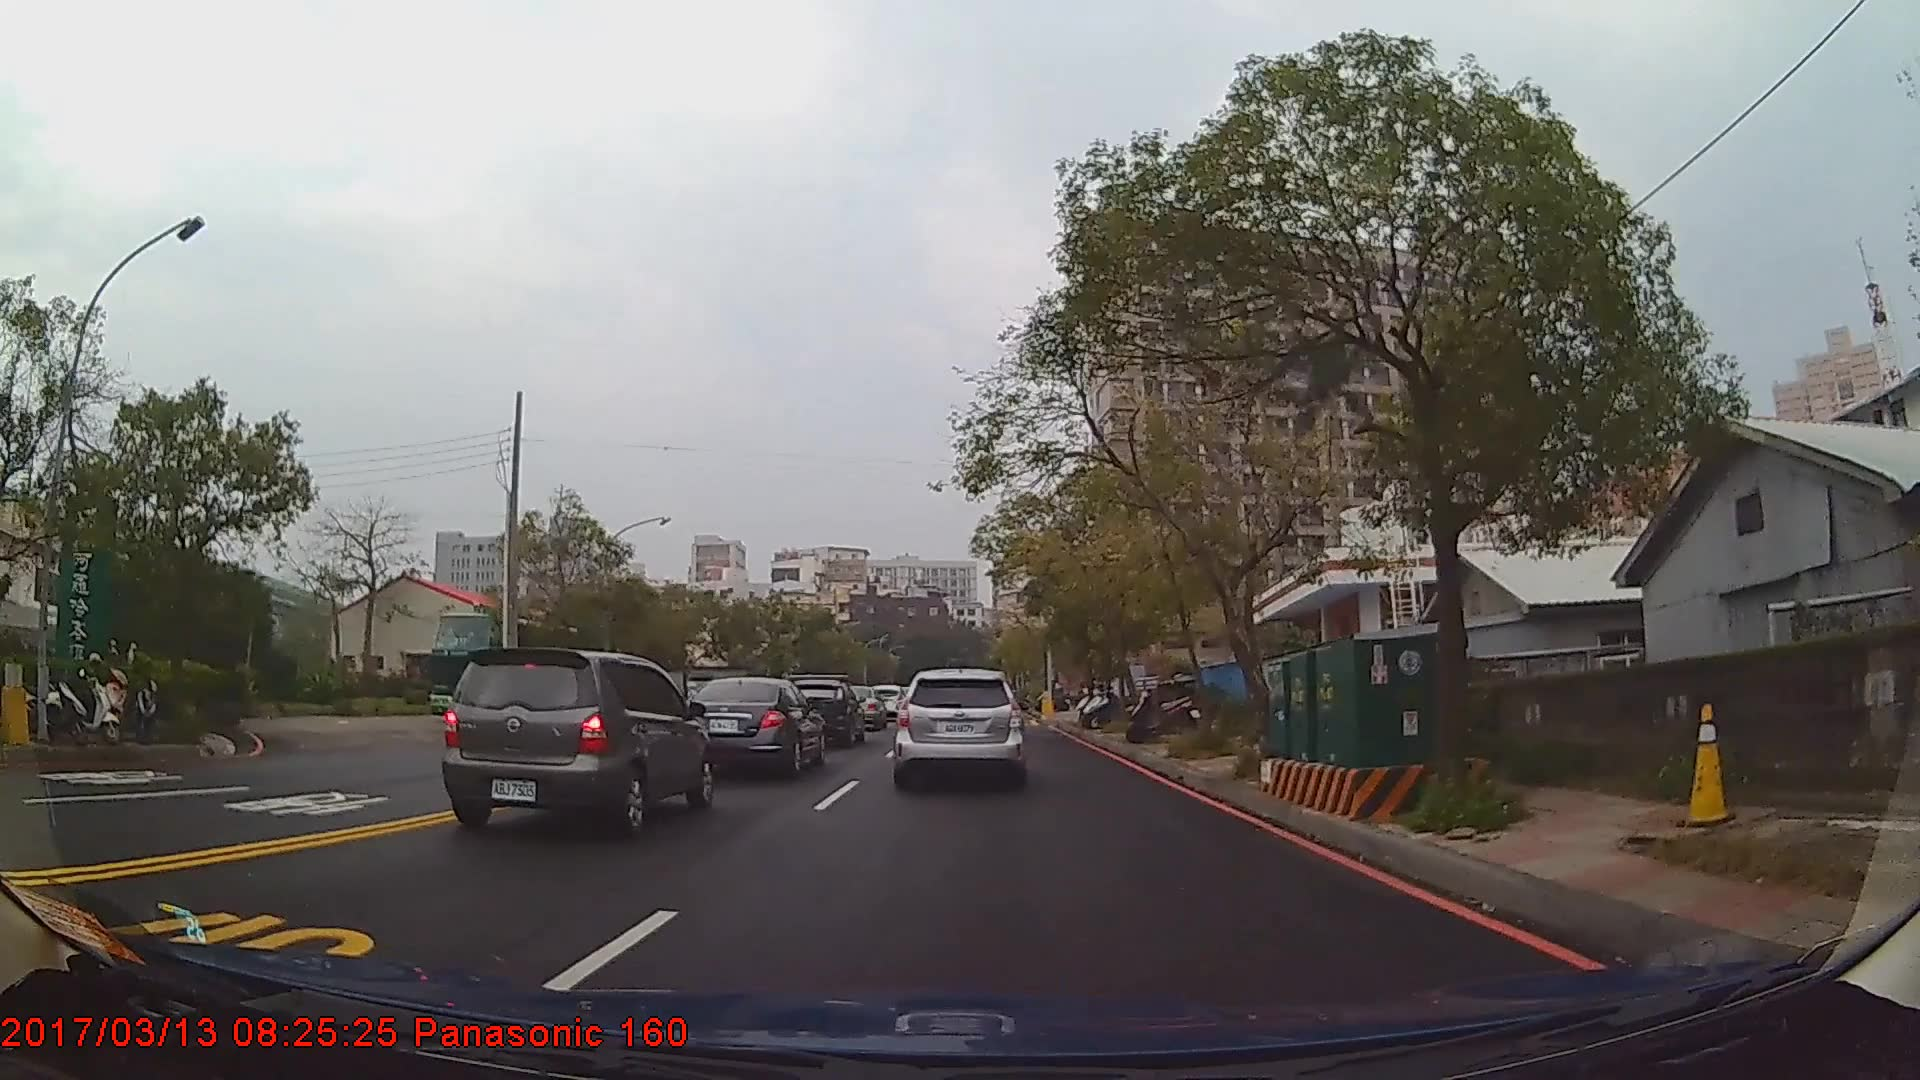vehicle: (438, 651, 715, 847), (433, 612, 605, 727), (893, 670, 1026, 789), (676, 678, 825, 777), (781, 678, 861, 745), (829, 684, 885, 732)
